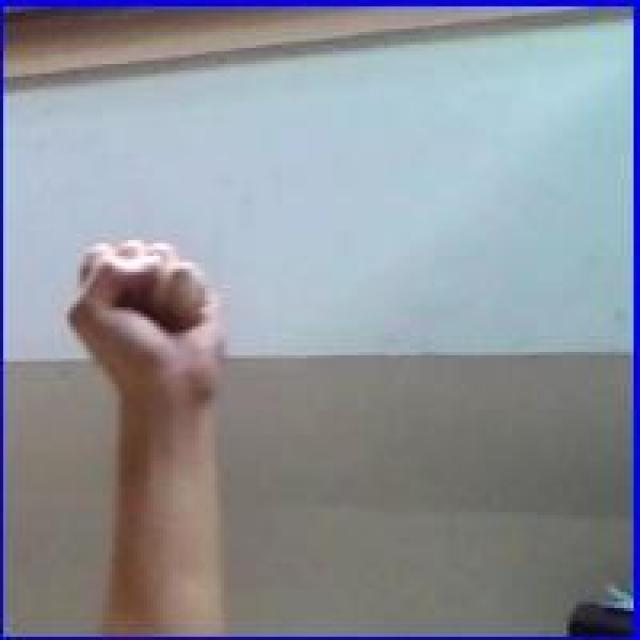S: (59, 233, 232, 410)
